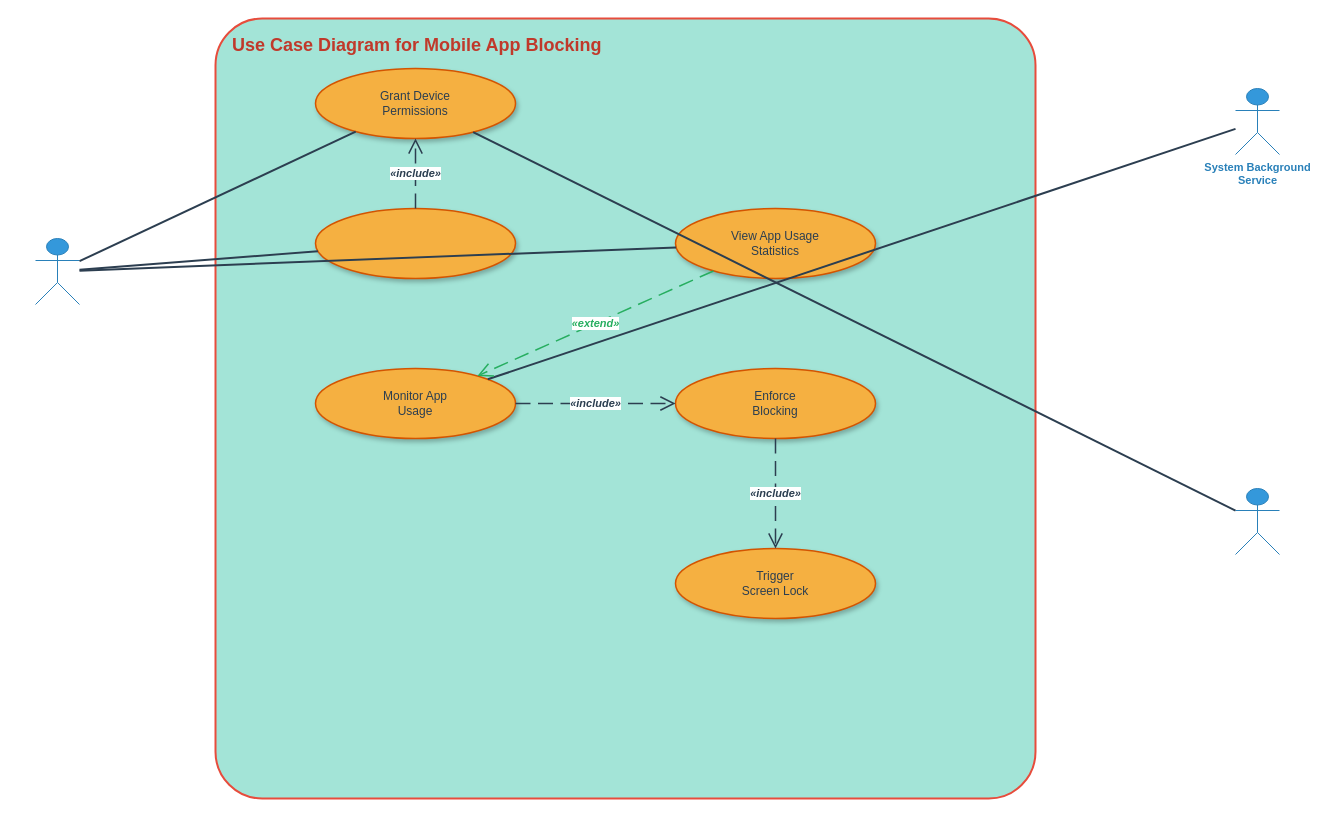
Image size: 1328x816. Some labels were removed from this diagram. Here are the shapes that lost their labels. From the top down, the centre of each, then its label:
At point 416,244: "Select Apps to Block".
At point 57,271: "Authenticated User".
At point 1257,521: "Device OS Permissions".
